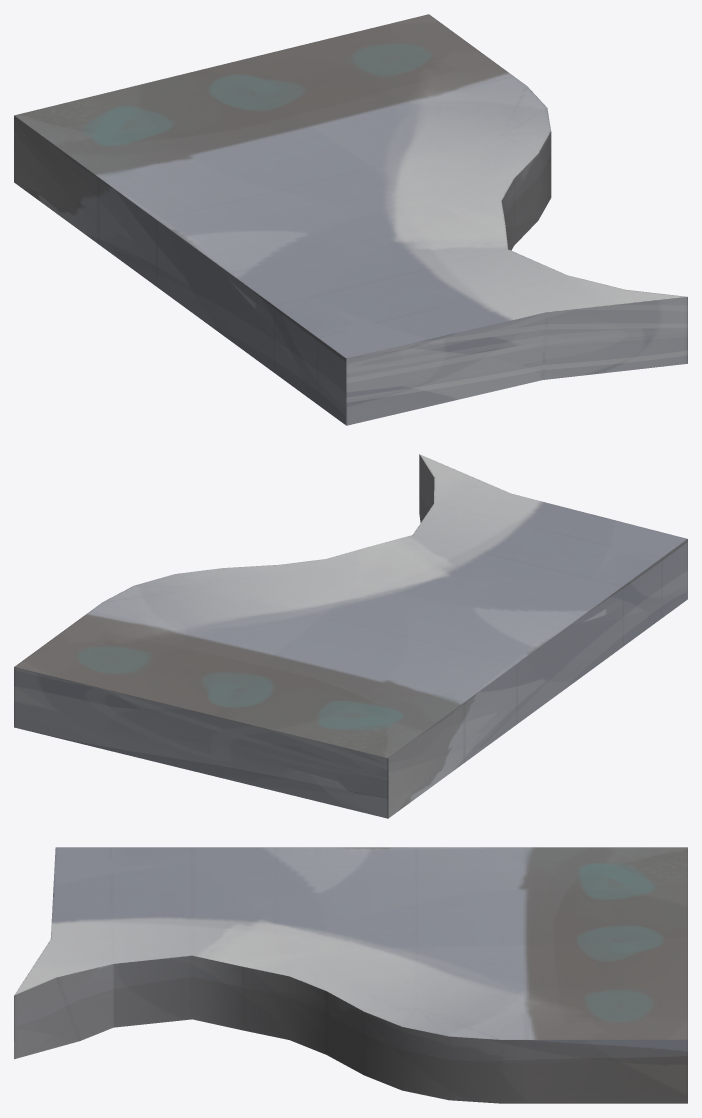
Rendered from Bottle.fbx.
The picture shows the model from 3 angles, top to bottom: view 1: azimuth 30°, elevation 25°; view 2: azimuth 150°, elevation 25°; view 3: azimuth 270°, elevation 25°; orthographic projection. The views are drawn at different scales.
Visible parts, largest first — view 1: pCube5; view 2: pCube5; view 3: pCube5.
Part boxes in pixels (x1=…): pCube5: x1=14, y1=14, x2=687, y2=425; pCube5: x1=14, y1=454, x2=687, y2=818; pCube5: x1=14, y1=847, x2=687, y2=1103.
Size of the model in its own units: 1.38 by 0.2121 by 2.03.
